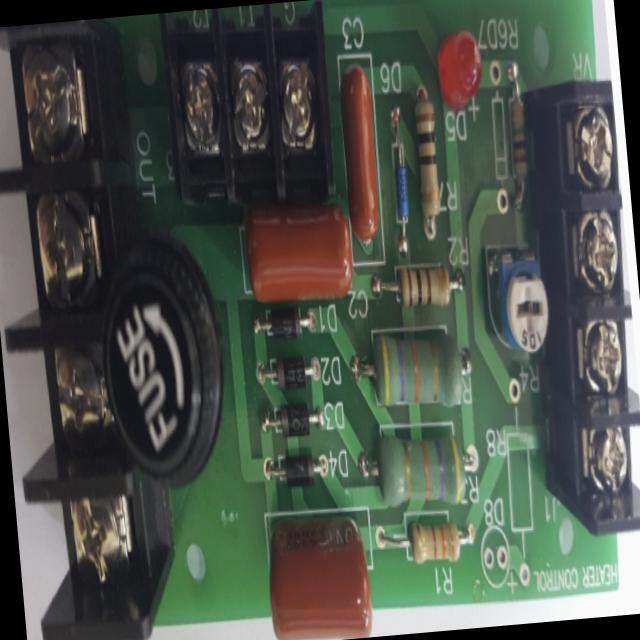diode: (267, 441, 326, 500), (246, 302, 317, 348), (256, 353, 322, 399), (260, 398, 324, 444)
led: (432, 13, 488, 128)
resistor: (362, 323, 469, 423), (360, 420, 474, 511), (395, 498, 476, 584), (406, 80, 448, 236), (375, 254, 464, 316), (501, 69, 539, 193)
